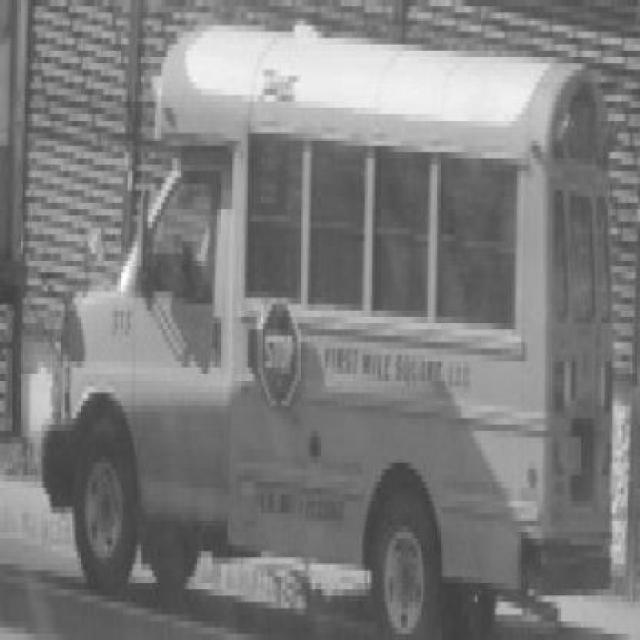Bus- Small: (40, 24, 615, 640)
